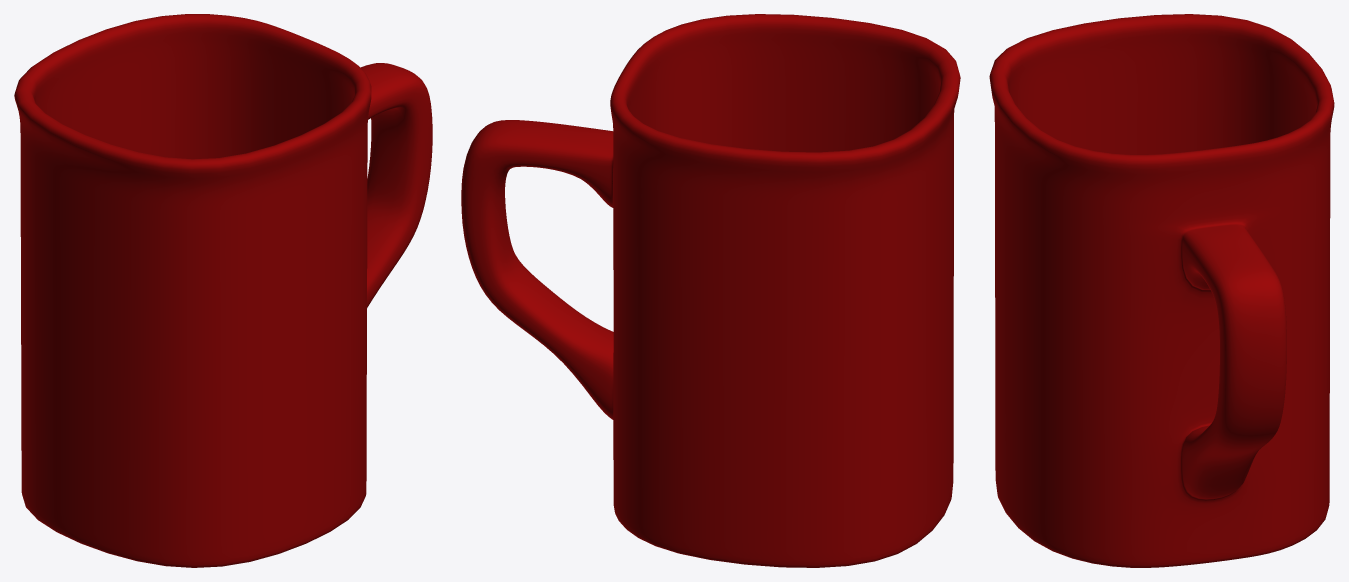
File: mug.dae
3 renders of one model, left to right at view 1: azimuth 30°, elevation 25°; view 2: azimuth 150°, elevation 25°; view 3: azimuth 270°, elevation 25°, orthographic.
Visible parts, largest first — view 1: mug_Circle; view 2: mug_Circle; view 3: mug_Circle.
Part boxes in pixels (box(x1,y1,x2,y2)): mug_Circle: box(14, 14, 432, 567); mug_Circle: box(461, 14, 960, 567); mug_Circle: box(989, 14, 1334, 567).
Size of the model in its own units: 1.3 by 0.9124 by 1.2.
